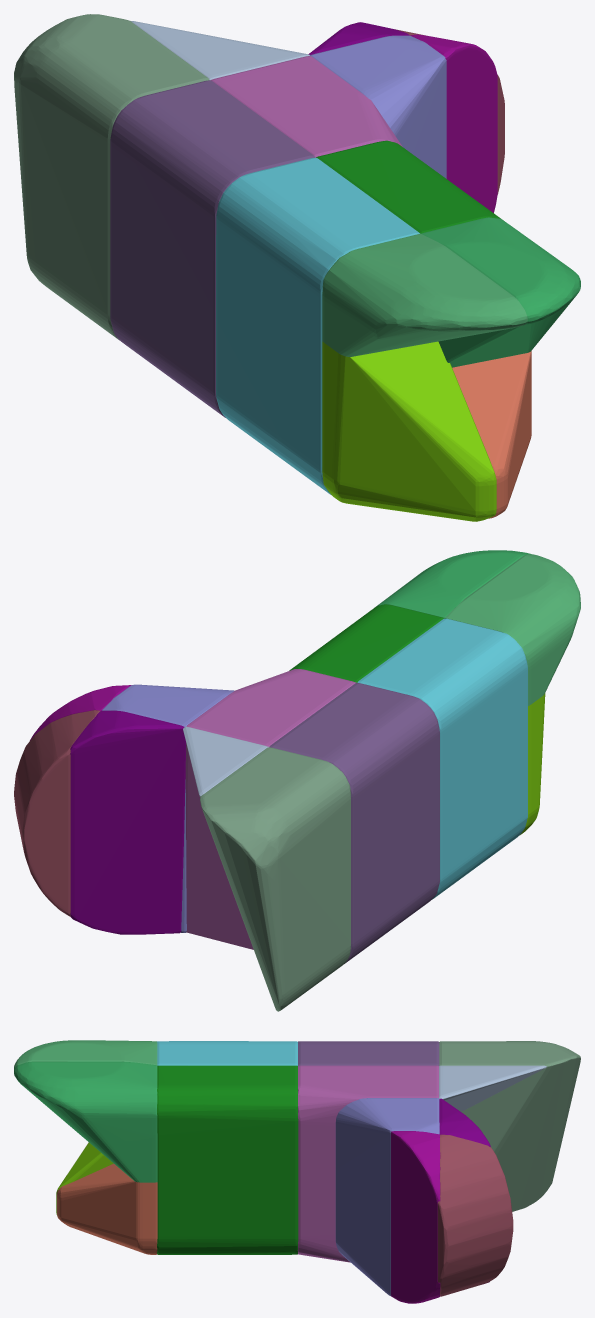
The model's file is lf_metacarpal_split.obj.
3 views of the same model, one above another, from view 1: azimuth 30°, elevation 25°; view 2: azimuth 150°, elevation 25°; view 3: azimuth 270°, elevation 25° (orthographic). The views are drawn at different scales.
Parts seen in each view (by area): view 1: geometry_2, geometry_1, geometry_0, geometry_4, geometry_3, geometry_10, geometry_7, geometry_12, geometry_14, geometry_8, geometry_9, geometry_6 (+2 smaller); view 2: geometry_0, geometry_1, geometry_11, geometry_2, geometry_7, geometry_3, geometry_13, geometry_8, geometry_10, geometry_12, geometry_6, geometry_4 (+1 smaller); view 3: geometry_8, geometry_0, geometry_12, geometry_10, geometry_7, geometry_13, geometry_14, geometry_9, geometry_1, geometry_2, geometry_6, geometry_3 (+2 smaller).
Part boxes in pixels (x1,y1,x2,y2): geometry_2: [216, 157, 419, 494]; geometry_1: [110, 80, 315, 417]; geometry_0: [14, 14, 209, 339]; geometry_4: [322, 341, 496, 521]; geometry_3: [322, 233, 527, 356]; geometry_10: [421, 217, 580, 367]; geometry_7: [210, 56, 402, 157]; geometry_12: [310, 35, 446, 178]; geometry_14: [410, 34, 497, 212]; geometry_8: [316, 140, 503, 233]; geometry_9: [452, 351, 531, 518]; geometry_6: [131, 21, 309, 80]; geometry_0: [200, 747, 350, 1011]; geometry_1: [269, 683, 439, 963]; geometry_11: [70, 710, 185, 934]; geometry_2: [357, 618, 527, 899]; geometry_7: [185, 669, 356, 949]; geometry_3: [445, 554, 580, 705]; geometry_13: [14, 710, 100, 916]; geometry_8: [289, 604, 444, 682]; geometry_10: [376, 550, 531, 618]; geometry_12: [102, 684, 233, 932]; geometry_6: [183, 726, 268, 796]; geometry_4: [519, 693, 545, 835]; geometry_8: [157, 1065, 298, 1254]; geometry_0: [439, 1041, 580, 1211]; geometry_12: [335, 1098, 439, 1295]; geometry_10: [14, 1061, 157, 1182]; geometry_7: [297, 1065, 438, 1262]; geometry_13: [437, 1134, 513, 1296]; geometry_14: [391, 1131, 440, 1303]; geometry_9: [57, 1163, 157, 1254]; geometry_1: [298, 1041, 439, 1065]; geometry_2: [157, 1041, 297, 1065]; geometry_6: [439, 1065, 546, 1111]; geometry_3: [14, 1040, 157, 1069].
Size of the model in its own units: 37.49 by 22.91 by 68.71.
